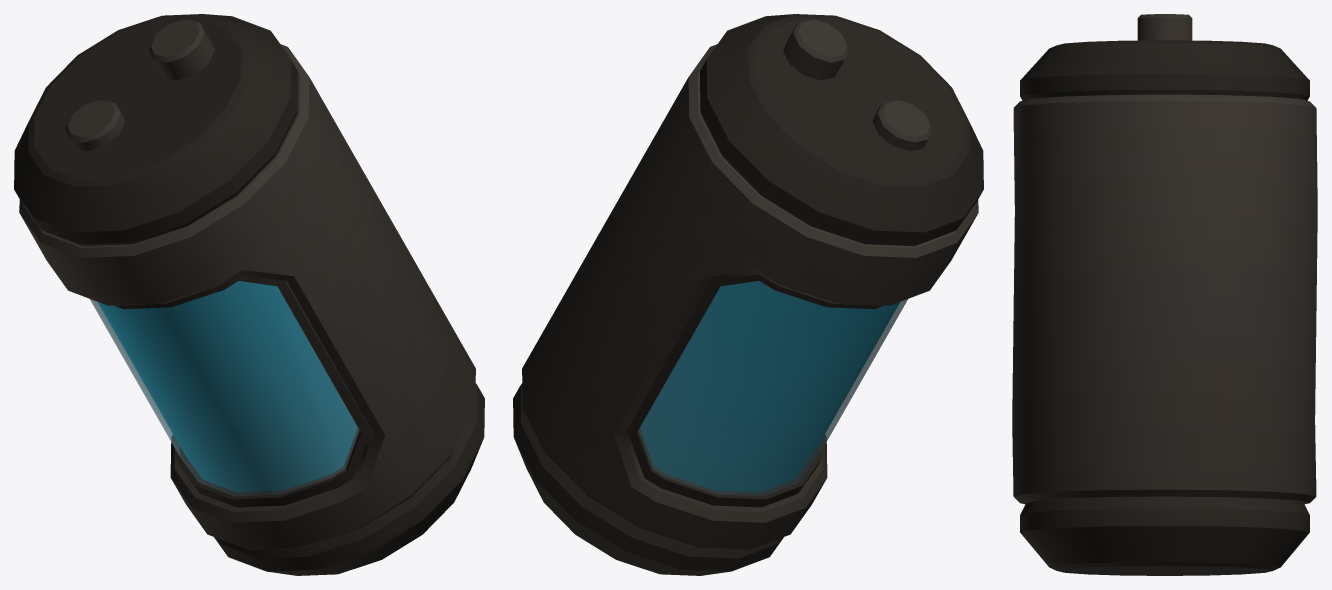
File: SMG8_Magazine.fbx
The picture shows the model from 3 angles, left to right: view 1: azimuth 30°, elevation 25°; view 2: azimuth 150°, elevation 25°; view 3: azimuth 270°, elevation 25°; orthographic projection. The views are drawn at different scales.
Parts seen in each view (by area): view 1: SMG8_Magazine; view 2: SMG8_Magazine; view 3: SMG8_Magazine.
Boxes of the visible parts, x1=… form: SMG8_Magazine: x1=14, y1=14, x2=484, y2=575; SMG8_Magazine: x1=513, y1=14, x2=983, y2=575; SMG8_Magazine: x1=1012, y1=14, x2=1317, y2=575.
Size of the model in its own units: 12.81 by 15.93 by 8.38.
